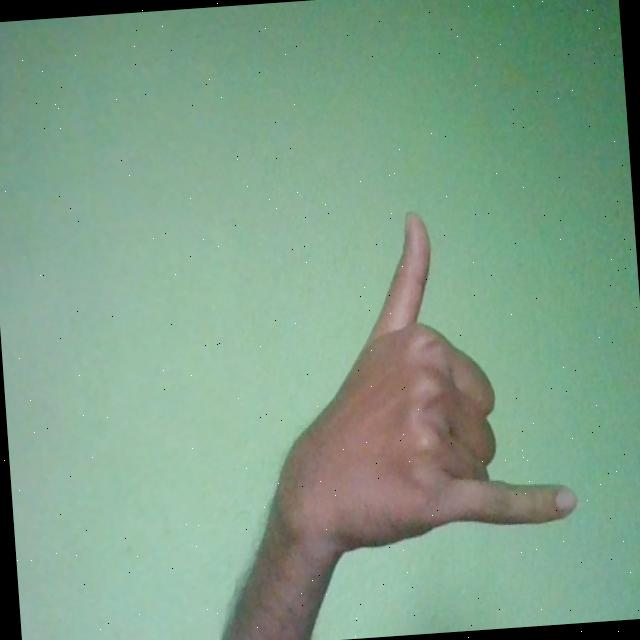Call Me: (245, 202, 580, 560)
